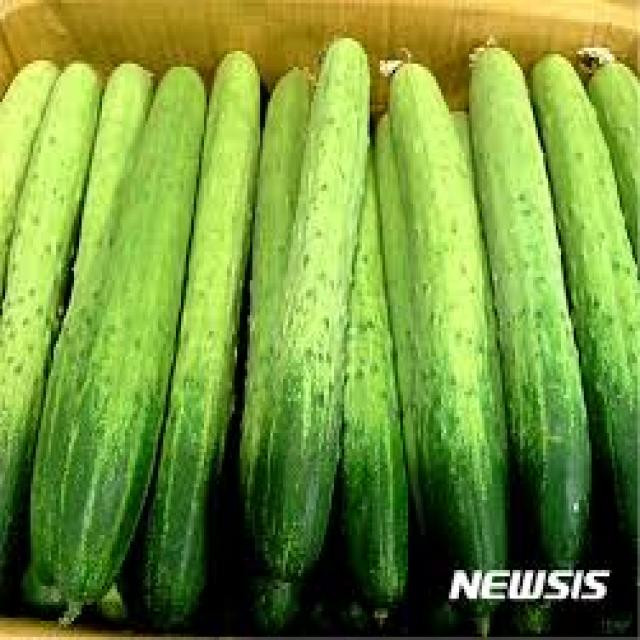Cucumber: (59, 67, 207, 619), (145, 51, 260, 626), (472, 49, 594, 570), (263, 38, 370, 581), (390, 62, 505, 567)
